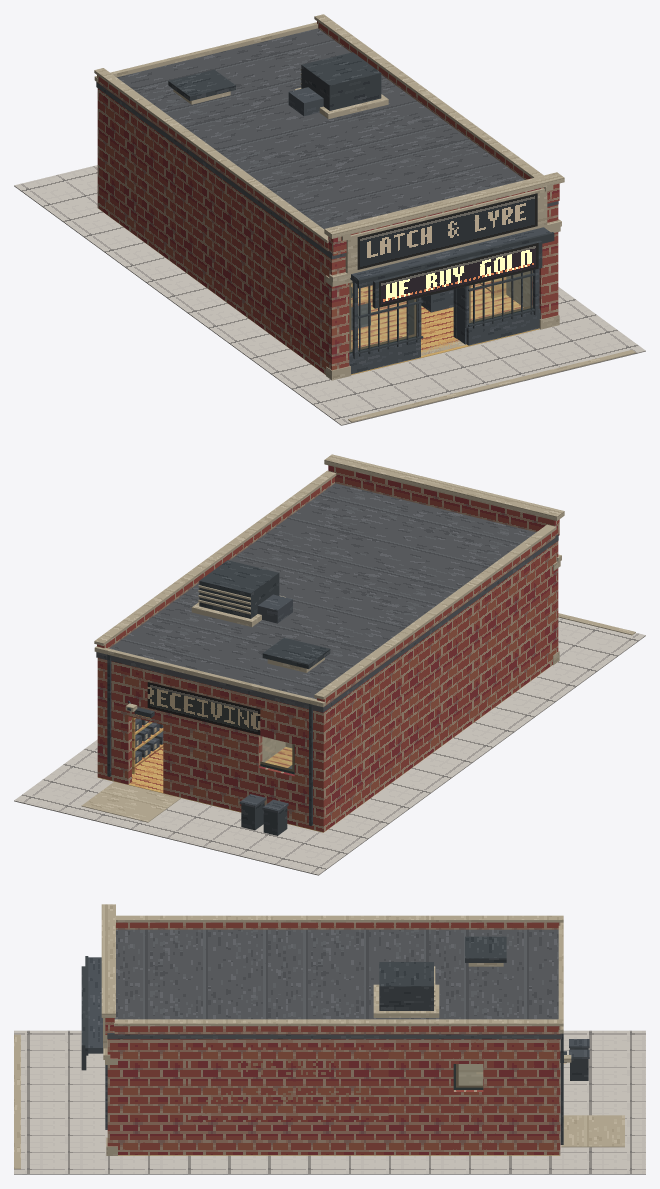
The model's file is latch-and-lyre-2000.glb.
The picture shows the model from 3 angles, top to bottom: view 1: azimuth 30°, elevation 25°; view 2: azimuth 150°, elevation 25°; view 3: azimuth 270°, elevation 25°; orthographic projection. The views are drawn at different scales.
Visible parts, largest first — view 1: shell, lot, sign_name, fixed_interior, display_window_west, display_window_east, window_bars_west, window_bars_east; view 2: shell, lot, fixed_interior, display_stock; view 3: shell, lot, fixed_interior.
Part boxes in pixels (bbox=[...]): shell: bbox=[94, 14, 564, 380]; lot: bbox=[14, 165, 645, 425]; sign_name: bbox=[357, 193, 537, 269]; fixed_interior: bbox=[98, 208, 539, 375]; display_window_west: bbox=[349, 282, 416, 353]; display_window_east: bbox=[469, 271, 532, 324]; window_bars_west: bbox=[358, 286, 423, 356]; window_bars_east: bbox=[468, 270, 534, 328]; shell: bbox=[94, 454, 564, 832]; lot: bbox=[14, 613, 645, 875]; fixed_interior: bbox=[97, 665, 552, 832]; display_stock: bbox=[135, 718, 163, 763]; shell: bbox=[81, 904, 566, 1155]; lot: bbox=[14, 1030, 645, 1174]; fixed_interior: bbox=[118, 1064, 560, 1155].
Size of what is drawn, in the model's own units: 10.5 by 5.22 by 19.55.
12 materials, 12 textured.
